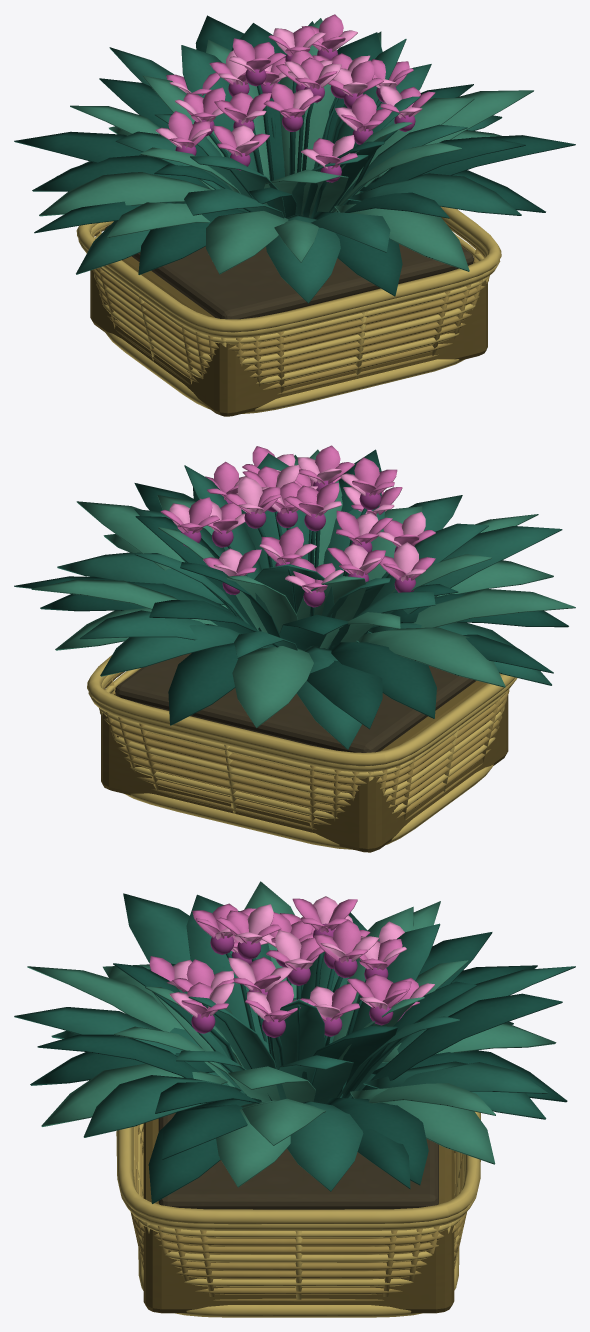
Rendered from 02_Flower_Basket.fbx.
The picture shows the model from 3 angles, top to bottom: view 1: azimuth 30°, elevation 25°; view 2: azimuth 150°, elevation 25°; view 3: azimuth 270°, elevation 25°; orthographic projection. The views are drawn at different scales.
Parts seen in each view (by area): view 1: 02_Flower_Basket_Mesh; view 2: 02_Flower_Basket_Mesh; view 3: 02_Flower_Basket_Mesh.
Boxes of the visible parts, left/top/right/bottom form: 02_Flower_Basket_Mesh: left=14, top=14, right=575, bottom=416; 02_Flower_Basket_Mesh: left=14, top=445, right=575, bottom=852; 02_Flower_Basket_Mesh: left=14, top=881, right=575, bottom=1317.
Size of the model in its own units: 31.28 by 18.04 by 27.86.
1 material, 1 textured.
